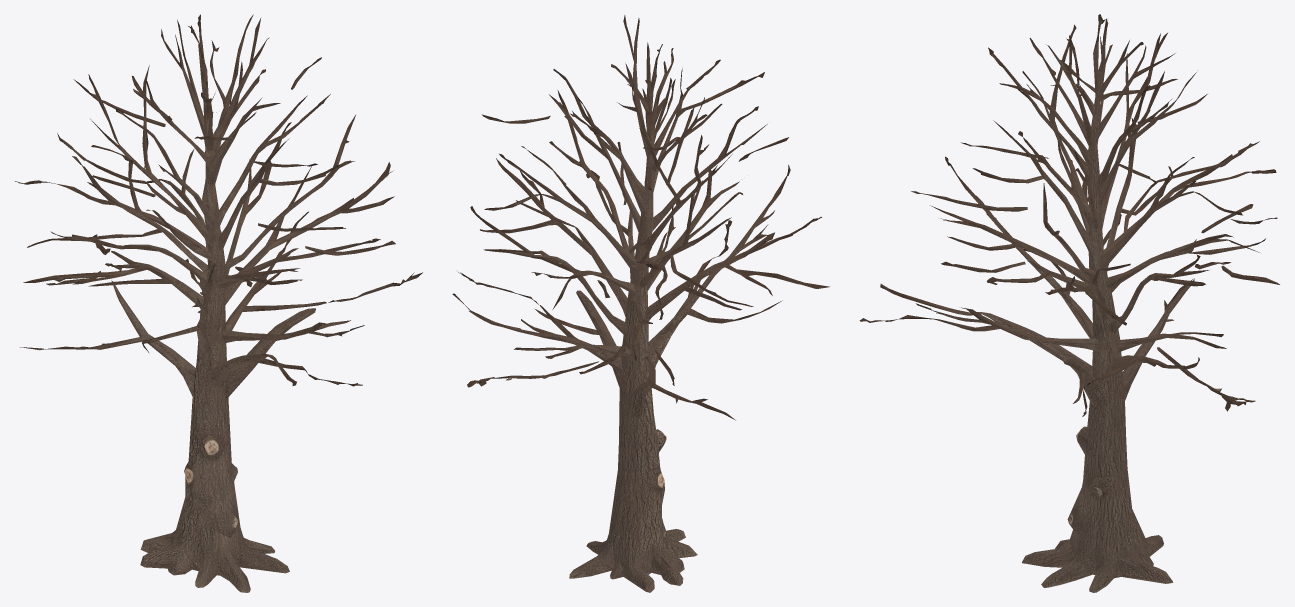
Rendered from tree_green.glb.
The picture shows the model from 3 angles, left to right: view 1: azimuth 30°, elevation 25°; view 2: azimuth 150°, elevation 25°; view 3: azimuth 270°, elevation 25°; orthographic projection. The views are drawn at different scales.
Visible parts, largest first — view 1: Mesh_0; view 2: Mesh_0; view 3: Mesh_0.
Boxes of the visible parts, x1,y1,x2,y2 form: Mesh_0: (15,14,422,592); Mesh_0: (452,15,829,592); Mesh_0: (859,14,1279,592).
Bounding box in the file's own units: 1.29 × 1.72 × 1.2.
1 material, 1 textured.
